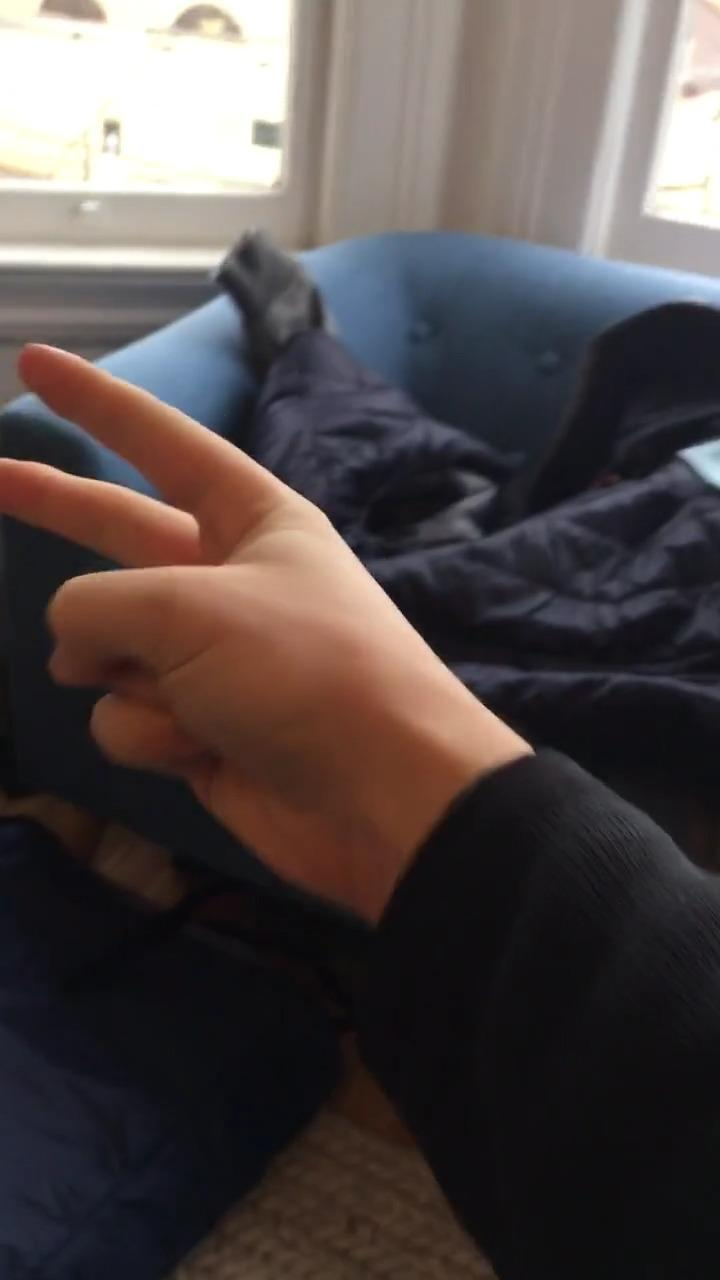Scissors: (0, 342, 464, 886)
